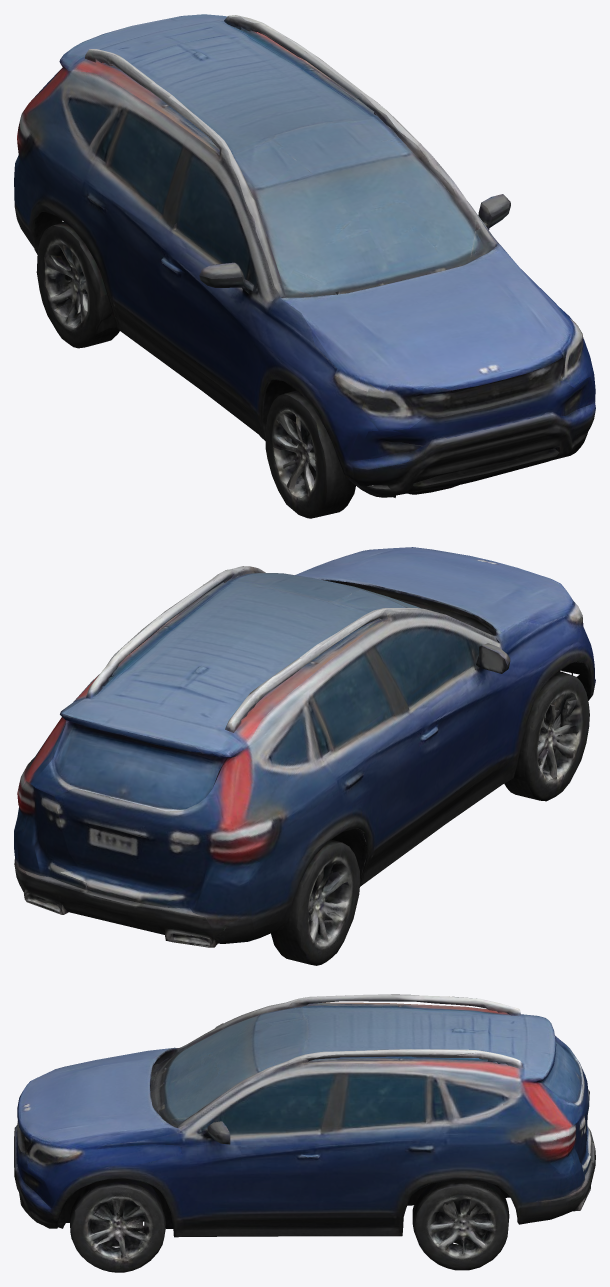
The model's file is suv_tex.glb.
The picture shows the model from 3 angles, top to bottom: view 1: azimuth 30°, elevation 25°; view 2: azimuth 150°, elevation 25°; view 3: azimuth 270°, elevation 25°; orthographic projection. The views are drawn at different scales.
Parts seen in each view (by area): view 1: suv; view 2: suv; view 3: suv.
Boxes of the visible parts, x1,y1,x2,y2 form: suv: (14,14,595,518); suv: (14,547,595,965); suv: (14,994,595,1272).
Bounding box in the file's own units: 1.18 × 0.999 × 2.58.
1 material, 1 textured.
